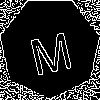M: (25, 22, 75, 77)
